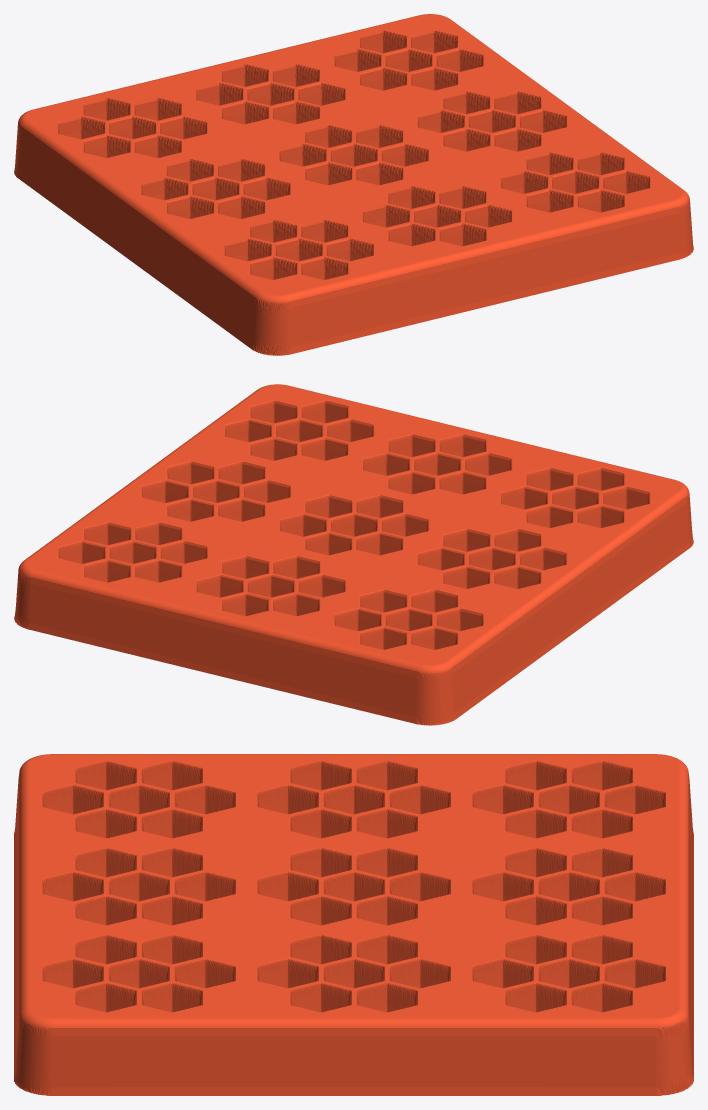
File: mold.glb
3 views of the same model, one above another, from view 1: azimuth 30°, elevation 25°; view 2: azimuth 150°, elevation 25°; view 3: azimuth 270°, elevation 25° (orthographic). The views are drawn at different scales.
Visible parts, largest first — view 1: geometry_0; view 2: geometry_0; view 3: geometry_0.
Boxes of the visible parts, box(x1,y1,x2,y2) form: geometry_0: box(14, 14, 693, 355); geometry_0: box(14, 384, 693, 725); geometry_0: box(14, 754, 693, 1095).
Size of the model in its own units: 0.1531 by 0.0185 by 0.1595.
